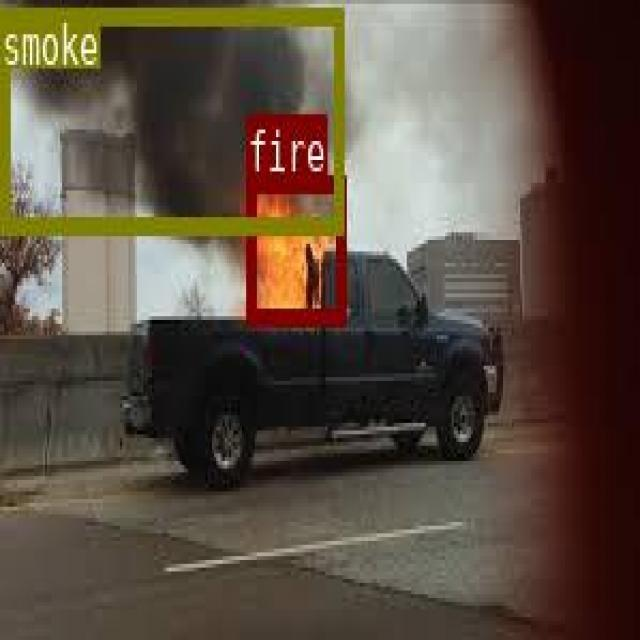fire: (245, 175, 343, 322)
smoke: (0, 5, 342, 230)
